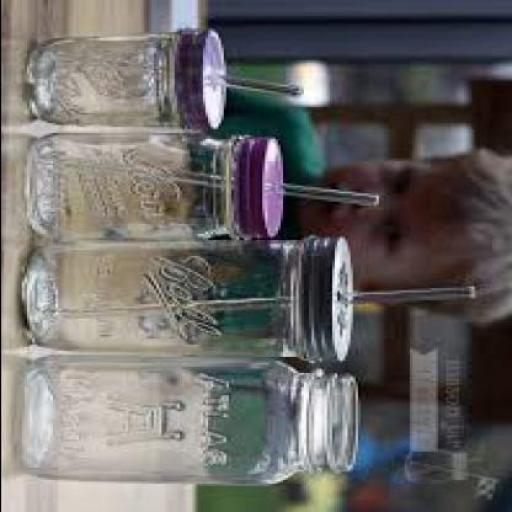glass: (15, 355, 365, 482), (18, 238, 308, 355), (26, 131, 246, 232), (28, 28, 184, 124)
metal: (303, 234, 354, 359), (233, 135, 284, 234), (181, 28, 228, 127)
